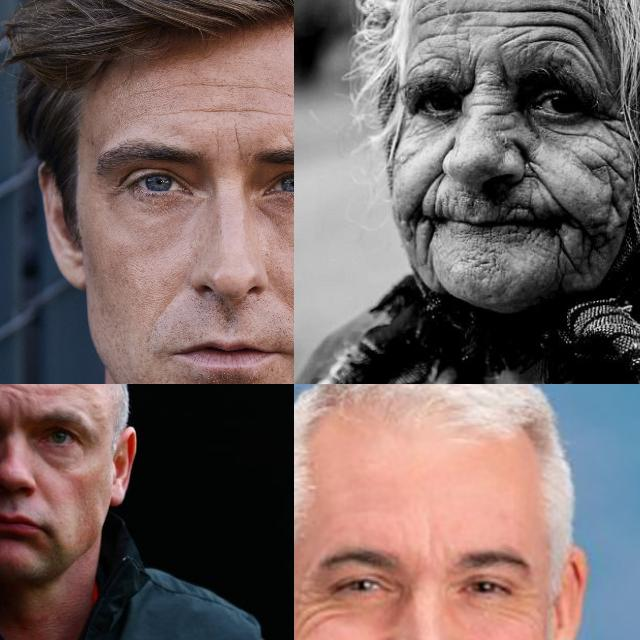bunny_line: (480, 105, 520, 141)
chin: (460, 248, 502, 272)
crows_feet: (597, 101, 627, 152), (296, 588, 334, 626)
forehead: (506, 0, 599, 49), (417, 0, 467, 60), (219, 100, 287, 124), (152, 99, 212, 125), (202, 76, 268, 96), (144, 74, 198, 96), (0, 384, 26, 400), (56, 384, 84, 391)
frown_line: (464, 53, 482, 93), (492, 54, 511, 90), (232, 123, 248, 163)
gummy_smile: (516, 150, 562, 207), (412, 164, 450, 212)
masseter: (588, 156, 628, 230)
sad_smile: (411, 224, 444, 282), (550, 232, 580, 284)
